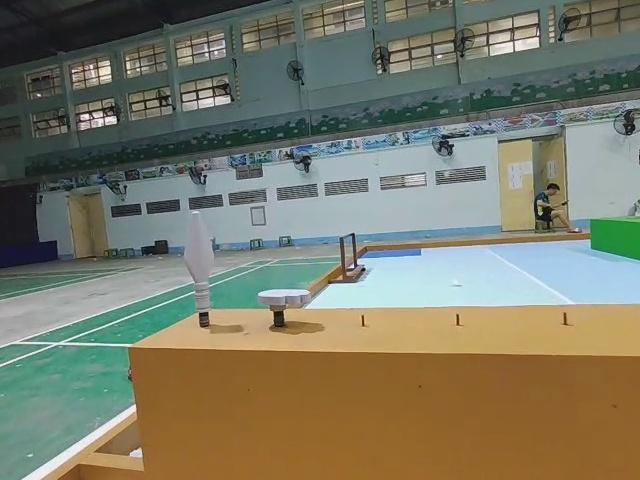Hand: (255, 284, 313, 326)
Sph: (182, 209, 215, 329)
